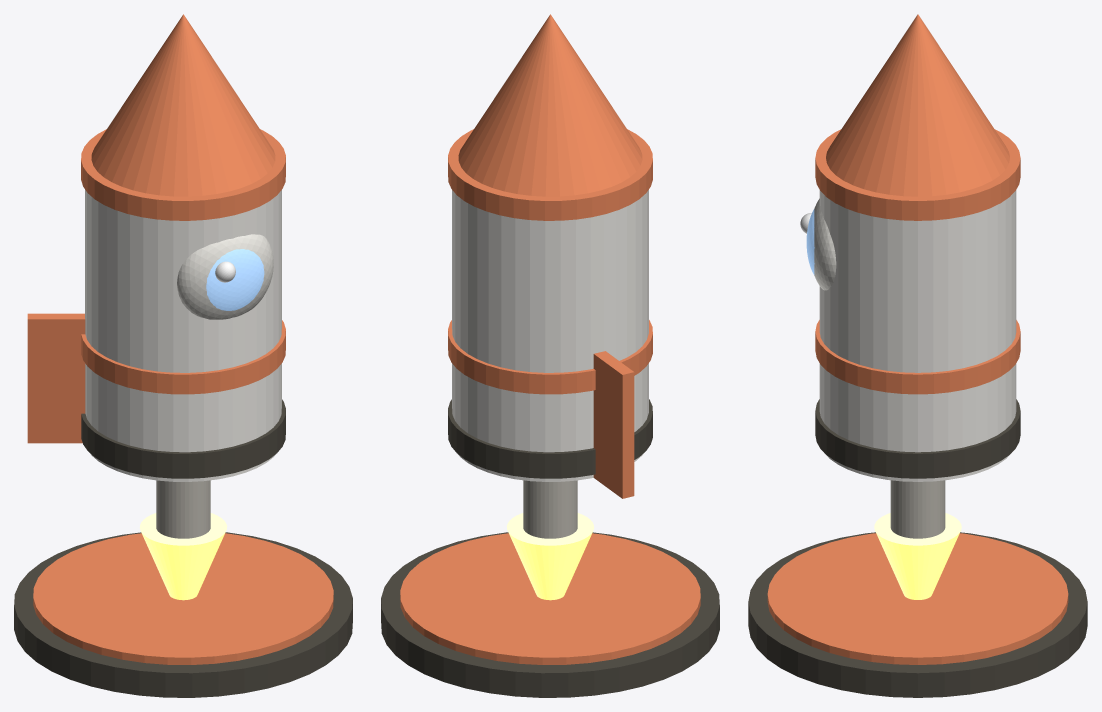
Rendered from rocket.glb.
3 renders of one model, left to right at view 1: azimuth 30°, elevation 25°; view 2: azimuth 150°, elevation 25°; view 3: azimuth 270°, elevation 25°, orthographic.
Visible parts, largest first — view 1: hull, base_ring, nose, base, fin, nose_ring, ring, stripe, flame, window_rim, engine, window; view 2: hull, base_ring, nose, base, nose_ring, fin, ring, stripe, flame, engine; view 3: hull, base_ring, nose, base, nose_ring, ring, stripe, flame, engine, window_rim.
Boxes of the visible parts, x1,y1,x2,y2 form: hull: [85, 190, 281, 481]; base_ring: [33, 533, 333, 664]; nose: [91, 14, 275, 196]; base: [14, 532, 352, 697]; fin: [27, 313, 85, 443]; nose_ring: [81, 129, 285, 220]; ring: [81, 399, 285, 478]; stripe: [81, 320, 285, 394]; flame: [139, 513, 227, 600]; window_rim: [177, 234, 273, 319]; engine: [156, 480, 210, 538]; window: [206, 249, 264, 310]; hull: [452, 190, 648, 481]; base_ring: [400, 533, 700, 664]; nose: [458, 14, 642, 196]; base: [381, 532, 719, 697]; nose_ring: [448, 129, 652, 220]; fin: [593, 351, 634, 498]; ring: [448, 399, 652, 478]; stripe: [448, 320, 652, 394]; flame: [506, 513, 594, 600]; engine: [523, 480, 577, 538]; hull: [819, 190, 1016, 481]; base_ring: [767, 533, 1068, 664]; nose: [826, 14, 1009, 196]; base: [748, 532, 1087, 697]; nose_ring: [815, 129, 1020, 220]; ring: [815, 399, 1020, 478]; stripe: [815, 320, 1020, 394]; flame: [874, 513, 961, 599]; engine: [890, 480, 945, 538]; window_rim: [814, 198, 836, 290].
Size of the model in its own units: 1.24 by 2.47 by 1.24.
